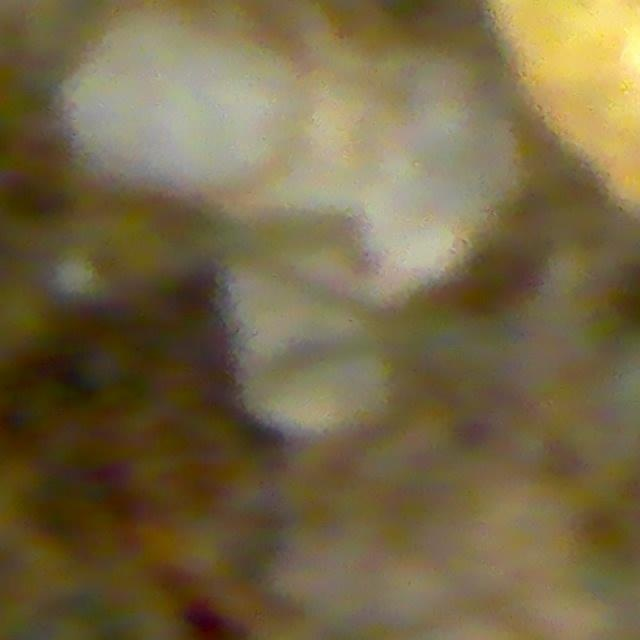SeaGrape: (76, 333, 142, 398)
